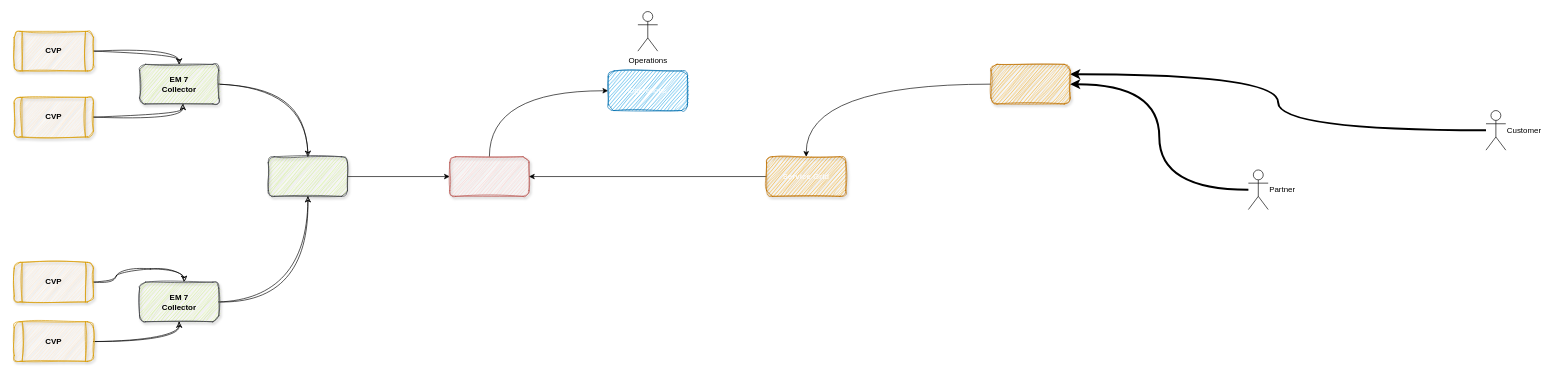
This 1553x378 diagram has some shape labels left out. Here are the shapes that lost their labels. From the top down, the centre of each, then its label:
the point at 1031,85: CS1
the point at 308,177: EM7 Database
the point at 489,177: Service Now
